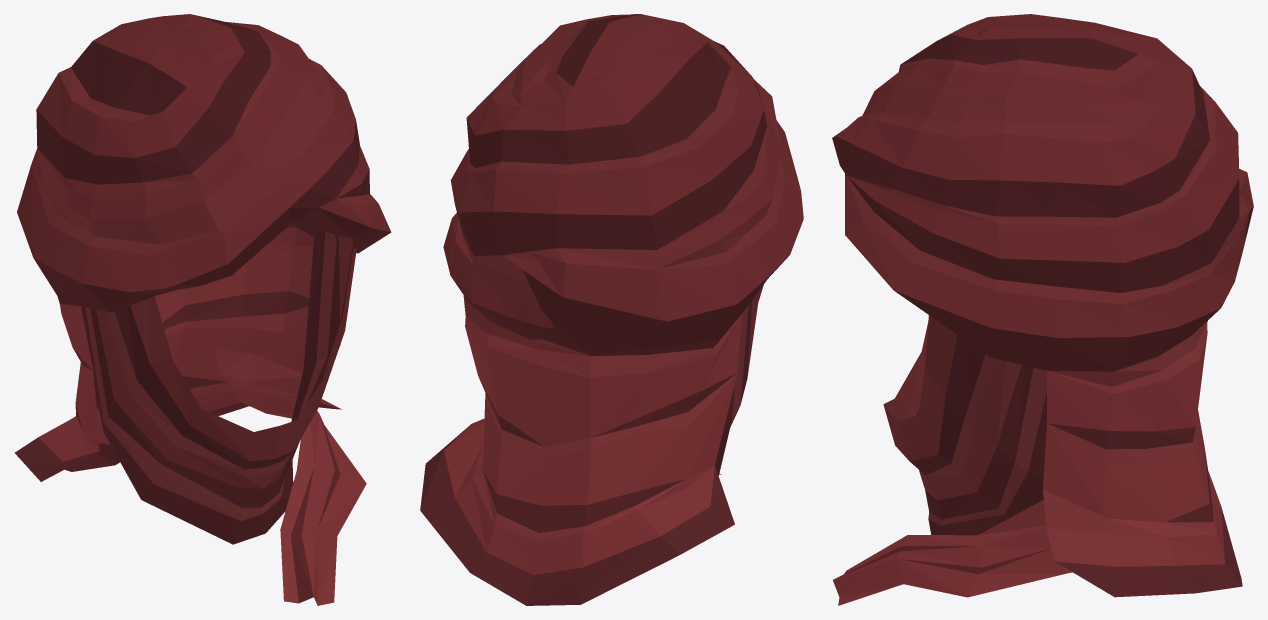
The model's file is desertTurbanOpenColorFemale.glb.
3 renders of one model, left to right at view 1: azimuth 30°, elevation 25°; view 2: azimuth 150°, elevation 25°; view 3: azimuth 270°, elevation 25°, orthographic. The views are drawn at different scales.
Visible parts, largest first — view 1: desertTurbanOpenColorFemale; view 2: desertTurbanOpenColorFemale; view 3: desertTurbanOpenColorFemale.
Part boxes in pixels (x1=…): desertTurbanOpenColorFemale: x1=14, y1=14, x2=391, y2=605; desertTurbanOpenColorFemale: x1=420, y1=14, x2=803, y2=605; desertTurbanOpenColorFemale: x1=832, y1=14, x2=1253, y2=605.
Size of the model in its own units: 0.2811 by 0.4488 by 0.3069.
